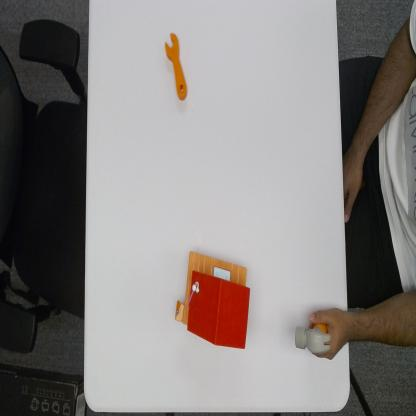Arm: (359, 285, 416, 356)
Hammer: (294, 322, 331, 360)
Hand: (312, 293, 354, 362)
House: (173, 248, 251, 352)
Screwdriver: (164, 32, 189, 102)
